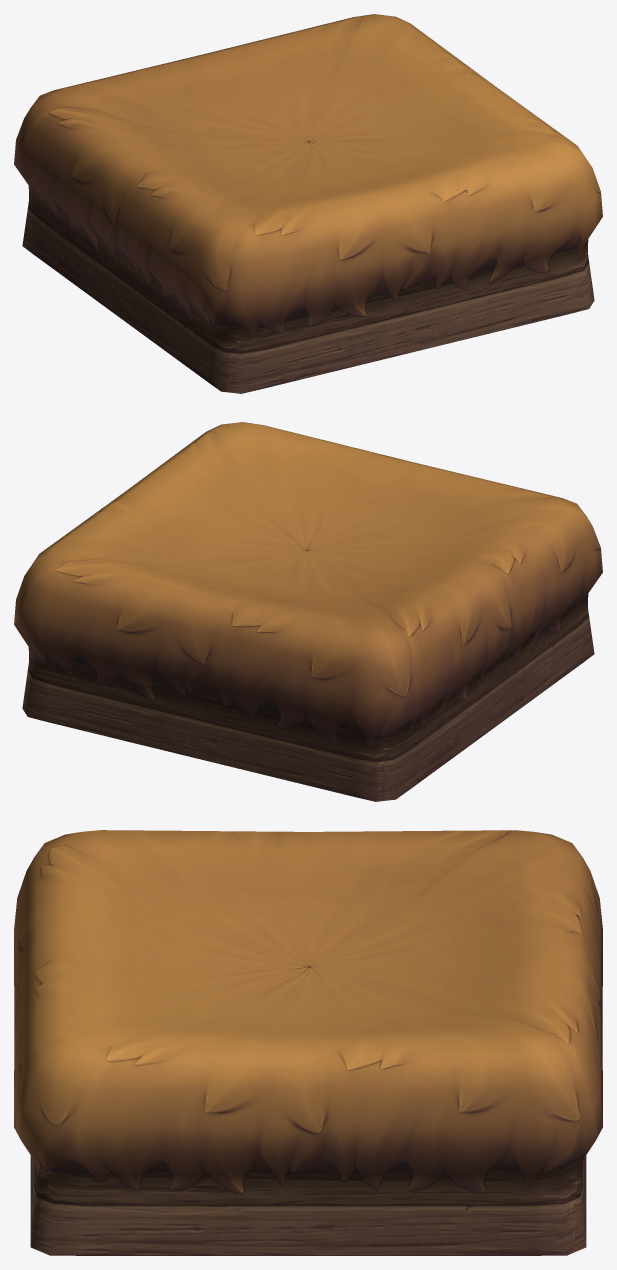
File: EggTray_01.fbx
3 renders of one model, top to bottom at view 1: azimuth 30°, elevation 25°; view 2: azimuth 150°, elevation 25°; view 3: azimuth 270°, elevation 25°, orthographic. The views are drawn at different scales.
Visible parts, largest first — view 1: EggTray_01; view 2: EggTray_01; view 3: EggTray_01.
Boxes of the visible parts, <box> form: EggTray_01: <box>14,14,602,393</box>; EggTray_01: <box>14,422,602,801</box>; EggTray_01: <box>14,830,602,1255</box>.
Size of the model in its own units: 46.66 by 17.04 by 45.93.
